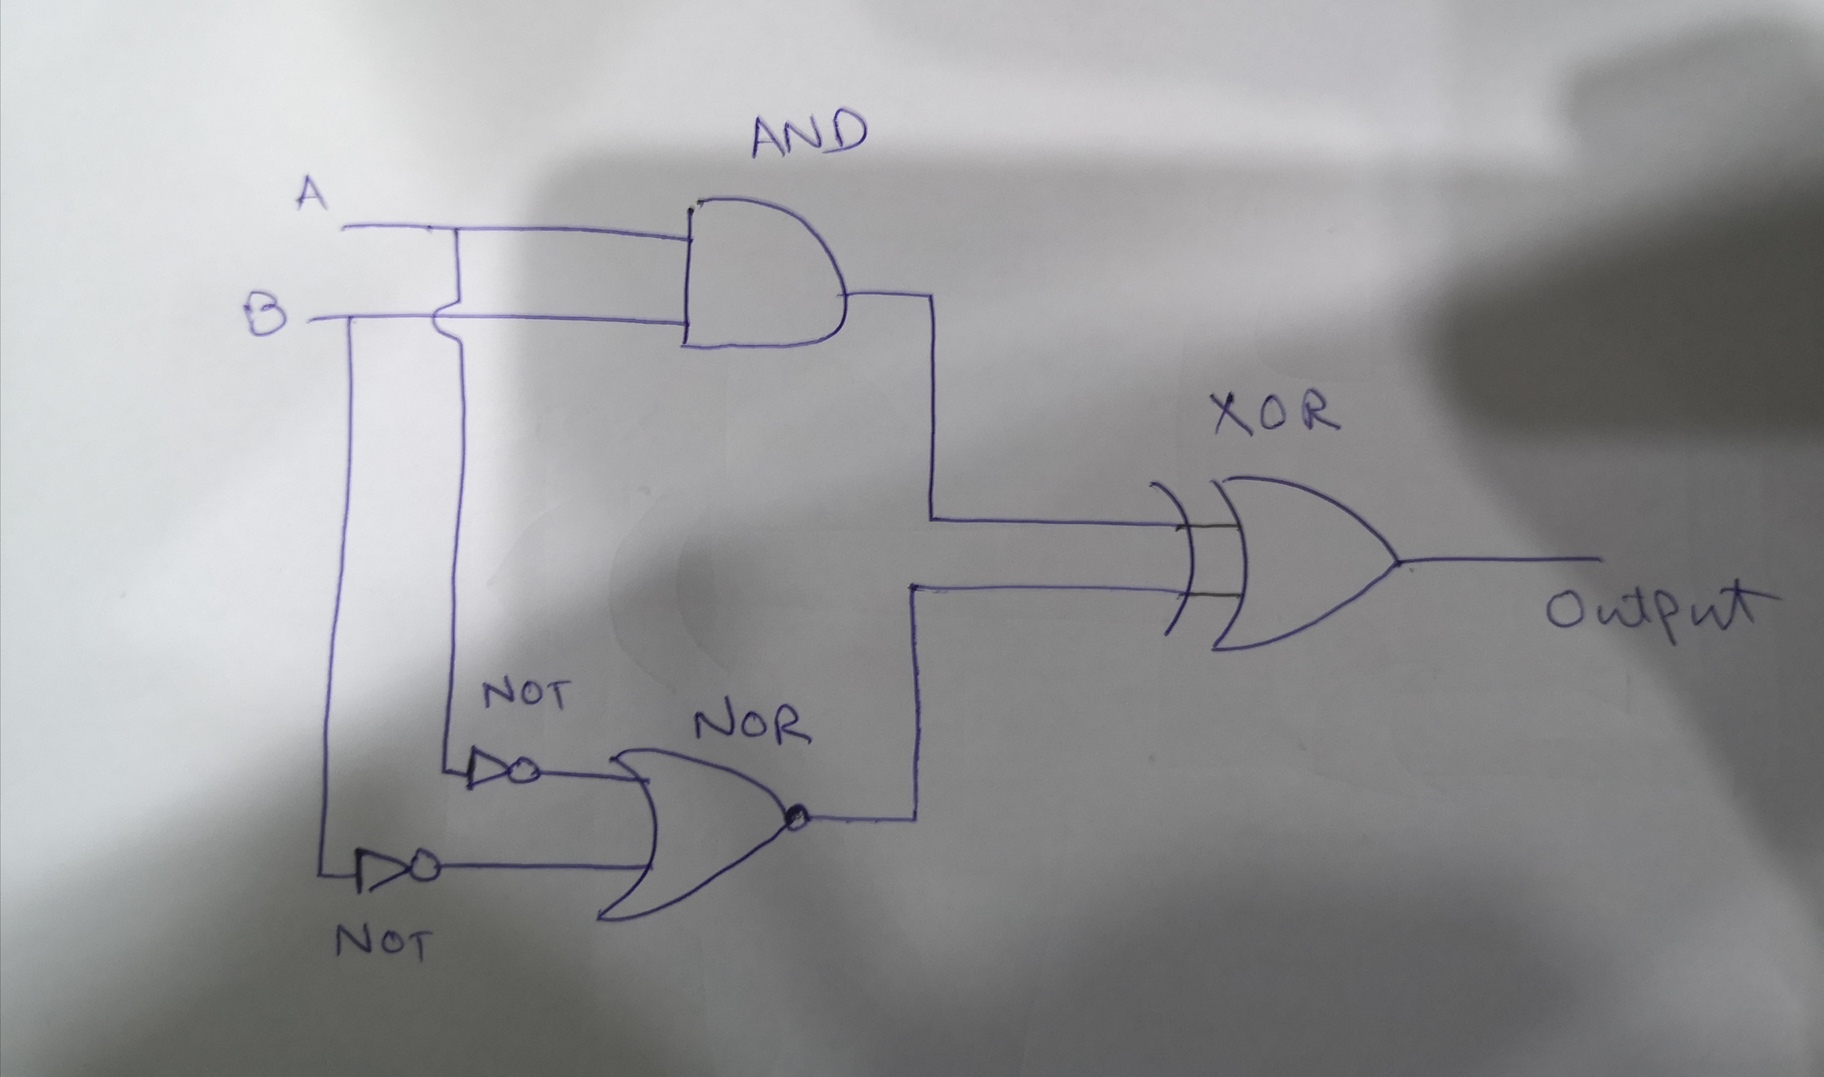and: (667, 188, 859, 368)
crossover: (427, 294, 476, 353)
junction: (913, 282, 946, 314), (899, 803, 928, 835), (899, 573, 925, 603), (335, 306, 365, 331), (442, 215, 470, 241), (920, 508, 942, 530), (310, 865, 328, 883), (435, 762, 452, 780)
nor: (590, 742, 815, 933)
not: (347, 842, 450, 900), (460, 742, 549, 792)
terminal: (1586, 547, 1614, 571), (331, 215, 356, 238), (297, 308, 320, 330)
text: (1539, 571, 1787, 655), (1205, 383, 1347, 442), (746, 101, 877, 165), (695, 697, 817, 750), (328, 918, 438, 969), (479, 672, 576, 721), (236, 285, 292, 342), (288, 168, 335, 217)
xor: (1134, 462, 1414, 663)
